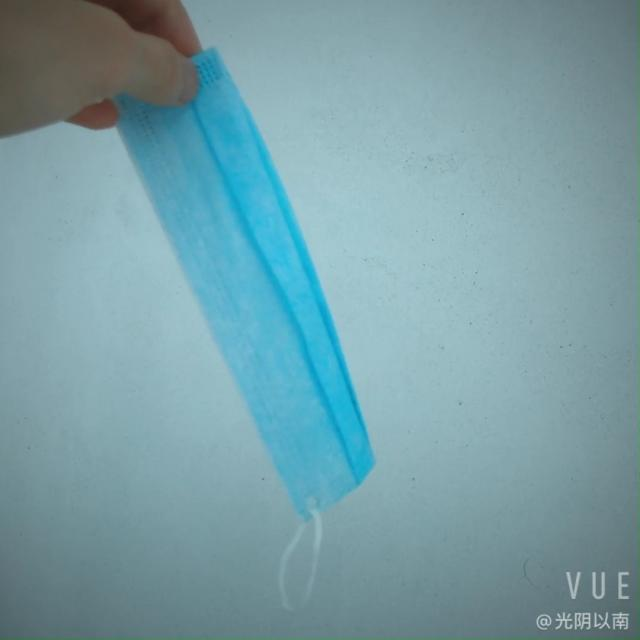non-organic waste: (151, 33, 368, 570)
